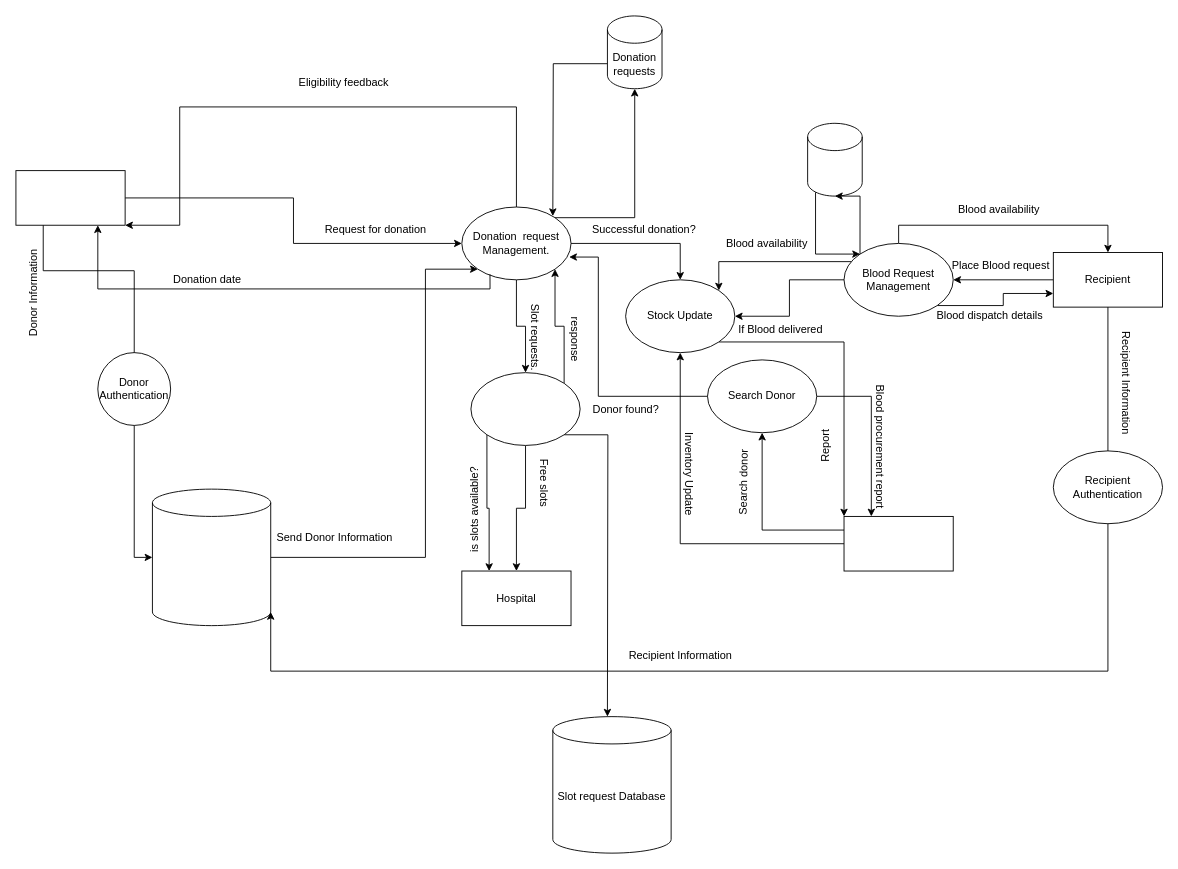
The diagram is 1178 pixels wide and 869 high, and some of its shapes have lost their labels. The box of each missing label's shape, as (x1, y1, x2, y2) in pixels:
Blood Bank/Admin: (843, 516, 953, 571)
Blood Request: (807, 122, 862, 196)
Donor: (15, 170, 125, 225)
Slot request: (470, 372, 580, 445)
User Database: (152, 488, 271, 626)
